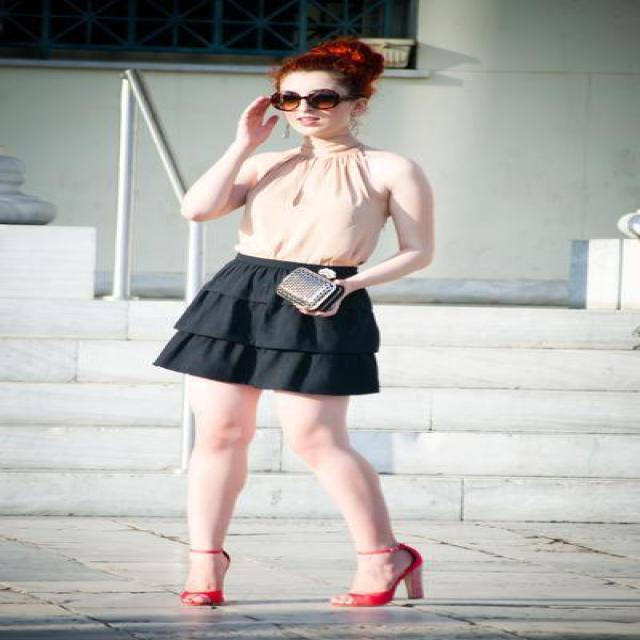bag: (276, 268, 369, 314)
shirt: (235, 141, 398, 293)
shoe: (162, 550, 422, 616)
skirt: (154, 252, 378, 394)
